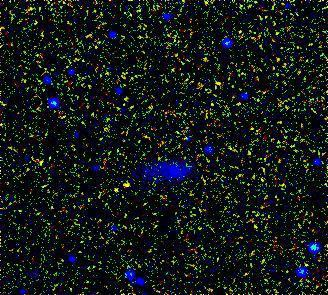star: (108, 173, 138, 203)
